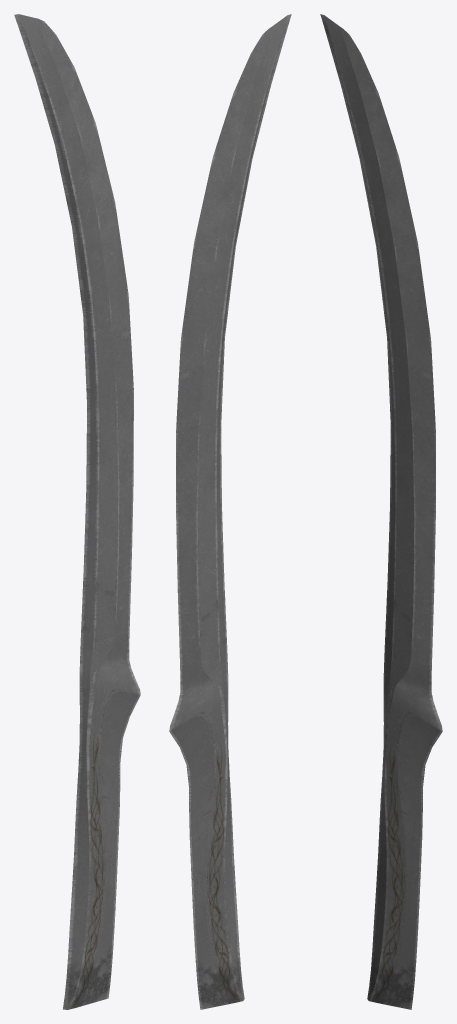
File: wm_rivendell_sword_a02_blade.fbx
The picture shows the model from 3 angles, left to right: view 1: azimuth 30°, elevation 25°; view 2: azimuth 210°, elevation 25°; view 3: azimuth 330°, elevation 25°; orthographic projection. The views are drawn at different scales.
Parts seen in each view (by area): view 1: wm_rivendell_sword_a02_blade; view 2: wm_rivendell_sword_a02_blade; view 3: wm_rivendell_sword_a02_blade.
Part boxes in pixels (box(x1,y1,x2,y2)): wm_rivendell_sword_a02_blade: box(14, 14, 140, 1009); wm_rivendell_sword_a02_blade: box(169, 14, 291, 1009); wm_rivendell_sword_a02_blade: box(320, 14, 442, 1009).
Size of the model in its own units: 0.1148 by 0.0116 by 0.8726.
1 material, 1 textured.
